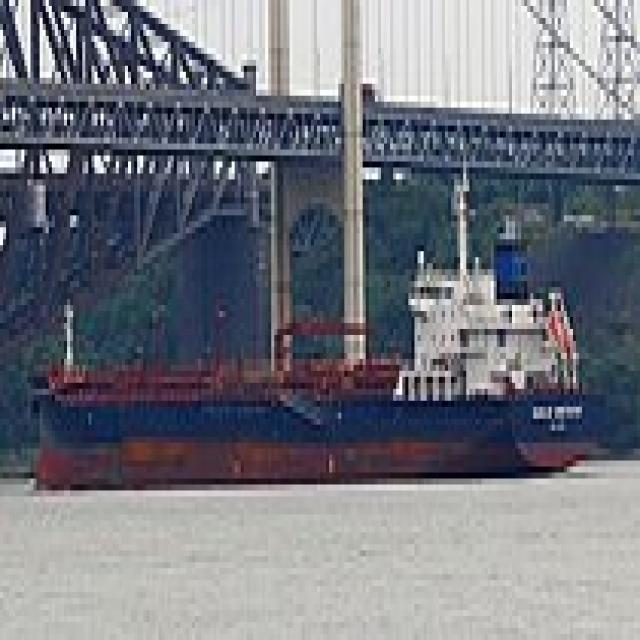Tanker: (28, 143, 585, 484)
